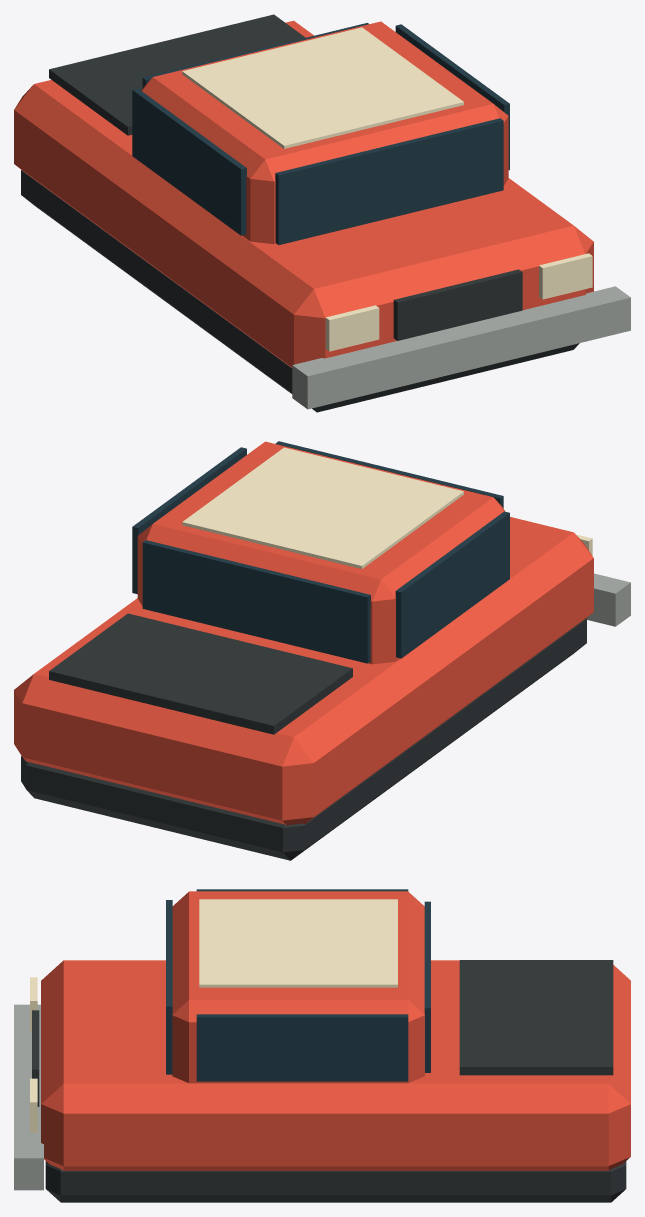
Rendered from truck-1.glb.
The picture shows the model from 3 angles, top to bottom: view 1: azimuth 30°, elevation 25°; view 2: azimuth 150°, elevation 25°; view 3: azimuth 270°, elevation 25°; orthographic projection. The views are drawn at different scales.
Parts seen in each view (by area): view 1: Optimized truck-1; view 2: Optimized truck-1; view 3: Optimized truck-1.
Part boxes in pixels (bbox=[...]): Optimized truck-1: bbox=[14, 14, 630, 412]; Optimized truck-1: bbox=[14, 441, 630, 860]; Optimized truck-1: bbox=[14, 889, 630, 1202].
Bounding box in the file's own units: 1.94 × 1.18 × 3.3.
